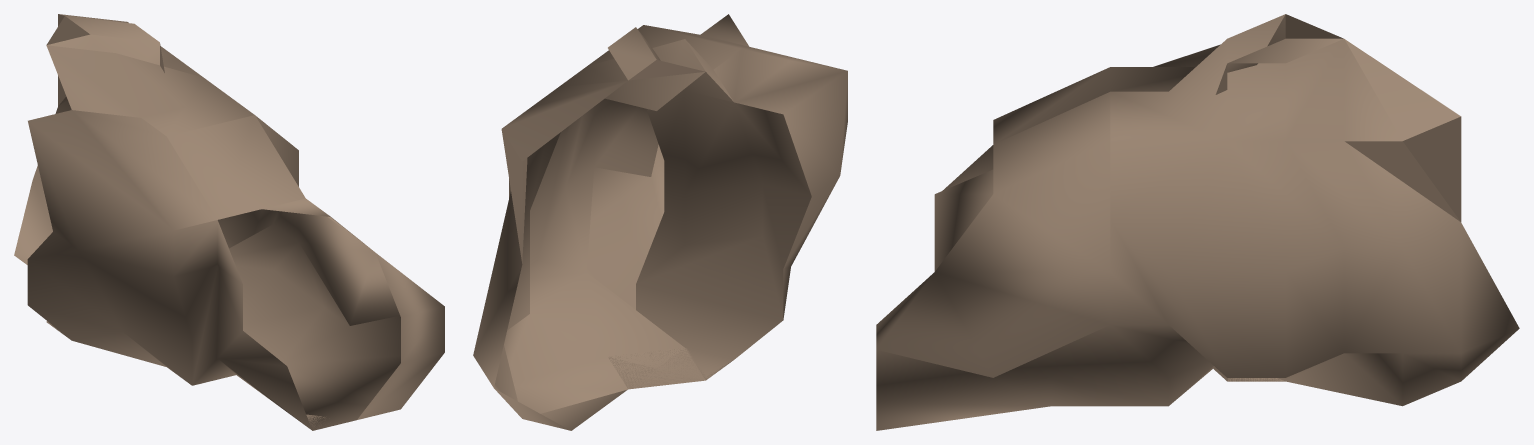
File: m_jet_6bc16e85.glb
3 renders of one model, left to right at view 1: azimuth 30°, elevation 25°; view 2: azimuth 150°, elevation 25°; view 3: azimuth 270°, elevation 25°, orthographic. The views are drawn at different scales.
Parts seen in each view (by area): view 1: mesh; view 2: mesh; view 3: mesh.
Part boxes in pixels (x1,y1,x2,y2): mesh: [14, 14, 444, 430]; mesh: [473, 14, 847, 430]; mesh: [876, 14, 1519, 430].
Size of the model in its own units: 6 by 6 by 11.
